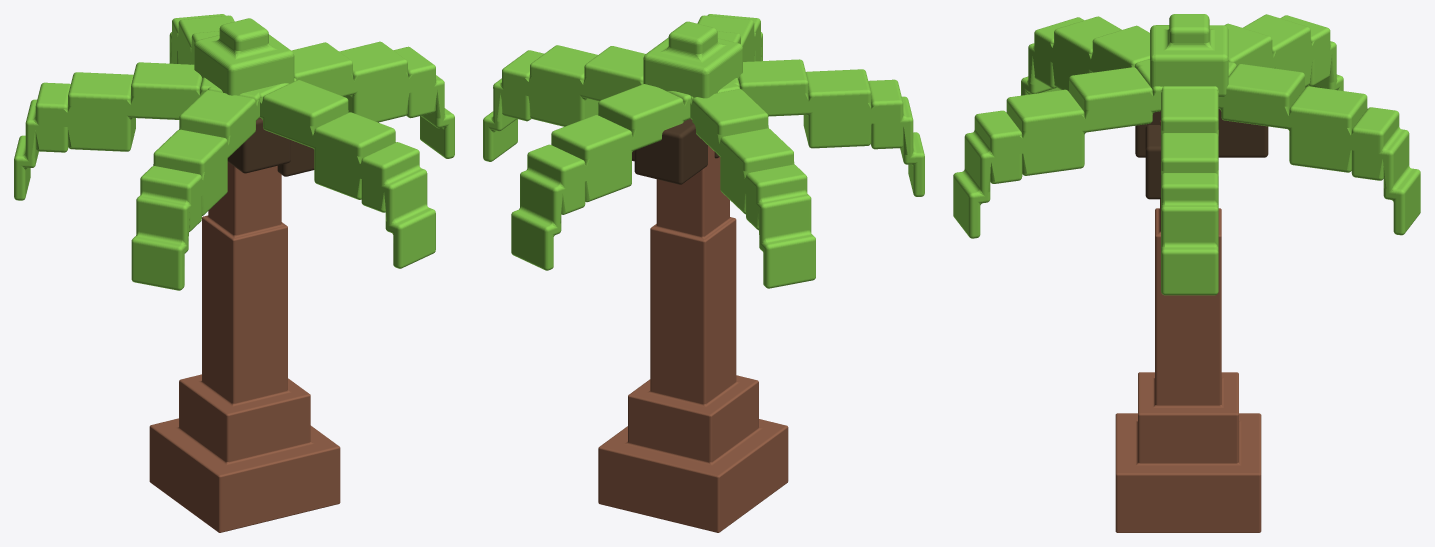
The picture shows the model from 3 angles, left to right: view 1: azimuth 30°, elevation 25°; view 2: azimuth 150°, elevation 25°; view 3: azimuth 270°, elevation 25°; orthographic projection. The views are drawn at different scales.
Parts seen in each view (by area): view 1: BipJamExport_beach_tree; view 2: BipJamExport_beach_tree; view 3: BipJamExport_beach_tree.
Boxes of the visible parts, x1,y1,x2,y2 form: BipJamExport_beach_tree: (14,14,454,532); BipJamExport_beach_tree: (483,14,924,532); BipJamExport_beach_tree: (953,14,1420,532).
Size of the model in its own units: 1.44 by 1.71 by 1.5.
